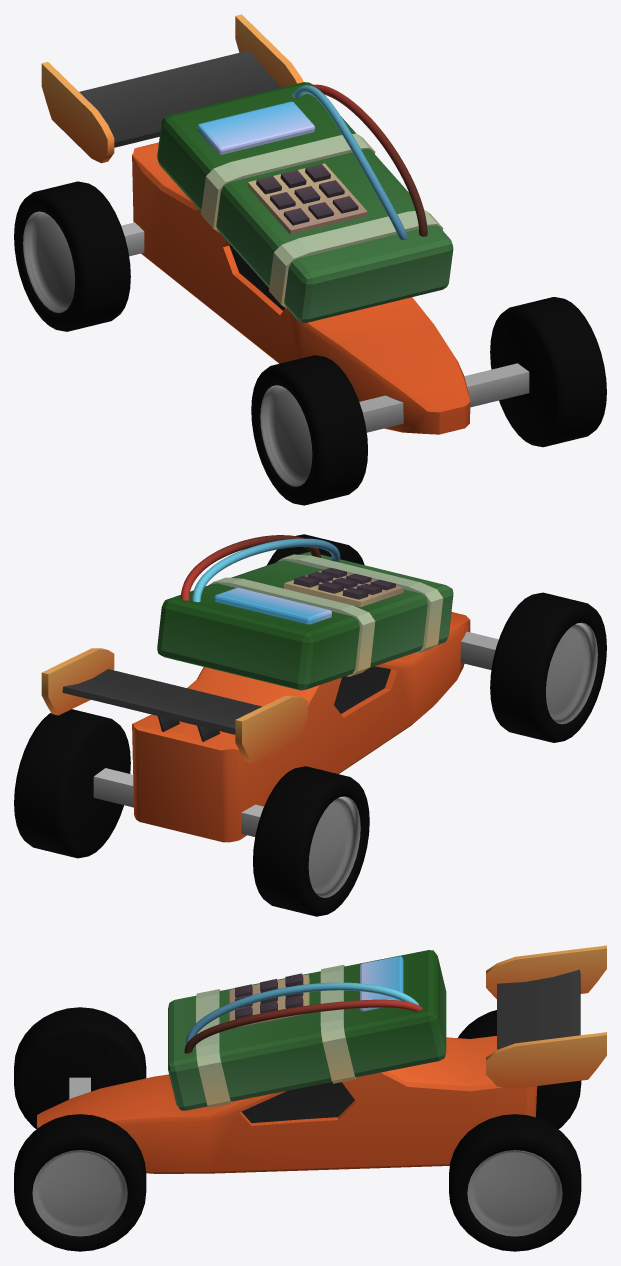
File: RCExplody.glb
3 views of the same model, one above another, from view 1: azimuth 30°, elevation 25°; view 2: azimuth 150°, elevation 25°; view 3: azimuth 270°, elevation 25° (orthographic). The views are drawn at different scales.
Visible parts, largest first — view 1: Cube.003, Cylinder.003, Cube.012, Cylinder.004, Cube.004, Plane.001, Cube.015, Cube.014, Cube.016, Front_Axle.001, Cube.017, Cube.013 (+2 smaller); view 2: Cube.003, Cylinder.004, Cube.012, Cylinder.003, Plane.001, Cube.004, Cube.015, Cube.016, Cube.014, Rear_Axle.001, Cube.017, NurbsPath.003 (+3 smaller); view 3: Cube.003, Cylinder.003, Cube.012, Cylinder.004, Plane.001, Cube.004, Cube.015, Cube.016, NurbsPath.002, NurbsPath.003, Cube.014, Cube.017 (+1 smaller).
Boxes of the visible parts, <box> form: Cube.003: <box>132,142,470,434</box>; Cylinder.003: <box>251,297,606,505</box>; Cube.012: <box>157,82,453,322</box>; Cylinder.004: <box>14,181,130,331</box>; Cube.004: <box>79,50,281,147</box>; Plane.001: <box>41,14,303,163</box>; Cube.015: <box>201,133,375,232</box>; Cube.014: <box>197,101,314,154</box>; Cube.016: <box>269,210,443,308</box>; Front_Axle.001: <box>359,363,529,432</box>; Cube.017: <box>256,164,358,225</box>; Cube.013: <box>247,163,367,234</box>; Cube.003: <box>132,612,470,842</box>; Cylinder.004: <box>14,709,369,916</box>; Cube.012: <box>157,552,453,690</box>; Cylinder.003: <box>267,534,606,742</box>; Plane.001: <box>41,648,307,762</box>; Cube.004: <box>62,669,261,734</box>; Cube.015: <box>208,577,375,676</box>; Cube.016: <box>276,554,443,653</box>; Cube.014: <box>214,587,331,624</box>; Rear_Axle.001: <box>93,768,263,836</box>; Cube.017: <box>293,567,395,599</box>; NurbsPath.003: <box>192,538,340,602</box>; Cube.003: <box>37,1036,537,1173</box>; Cylinder.003: <box>14,1007,146,1251</box>; Cube.012: <box>168,950,446,1110</box>; Cylinder.004: <box>449,1010,581,1251</box>; Plane.001: <box>486,945,606,1088</box>; Cube.004: <box>497,969,580,1049</box>; Cube.015: <box>320,964,356,1083</box>; Cube.016: <box>196,989,231,1107</box>; NurbsPath.002: <box>184,999,422,1053</box>; NurbsPath.003: <box>186,982,418,1043</box>; Cube.014: <box>360,956,403,1011</box>; Cube.017: <box>235,973,303,1019</box>.
Bounding box in the file's own units: 2.31 × 1.89 × 4.47.
1 material, 1 textured.
